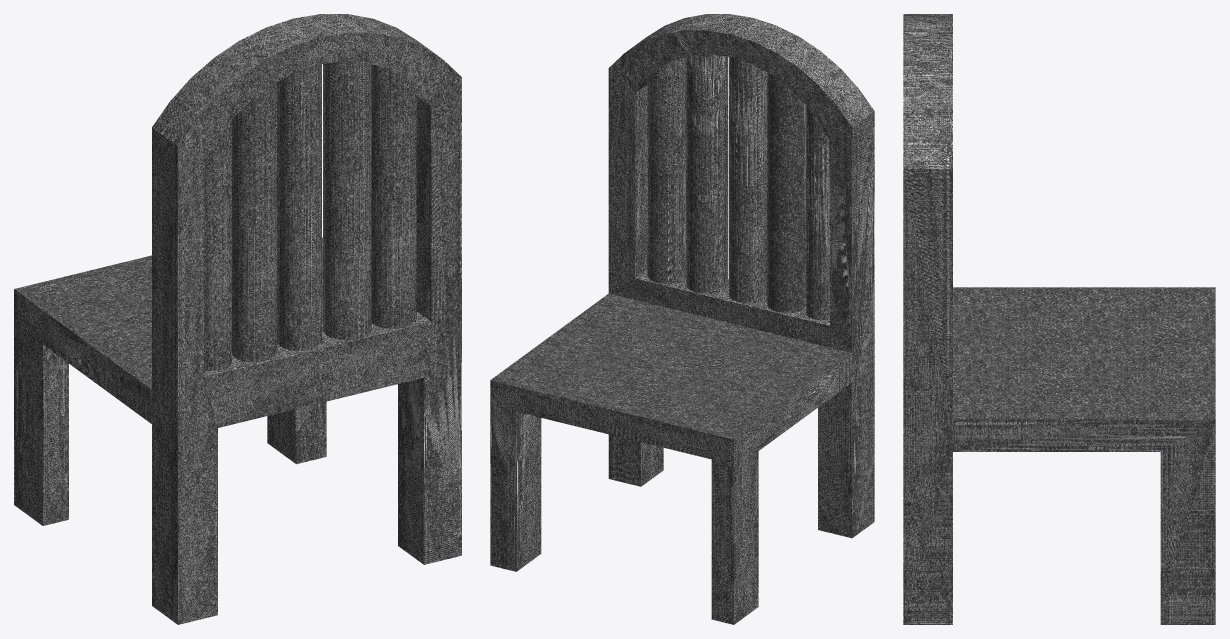
The picture shows the model from 3 angles, left to right: view 1: azimuth 30°, elevation 25°; view 2: azimuth 150°, elevation 25°; view 3: azimuth 270°, elevation 25°; orthographic projection. The views are drawn at different scales.
Parts seen in each view (by area): view 1: mesh1_mesh1-geometry; view 2: mesh1_mesh1-geometry; view 3: mesh1_mesh1-geometry.
Part boxes in pixels (<box>): mesh1_mesh1-geometry: <box>14,14,461,624</box>; mesh1_mesh1-geometry: <box>490,14,874,624</box>; mesh1_mesh1-geometry: <box>903,14,1215,624</box>.
Size of the model in its own units: 0.4279 by 0.7961 by 0.4279.
